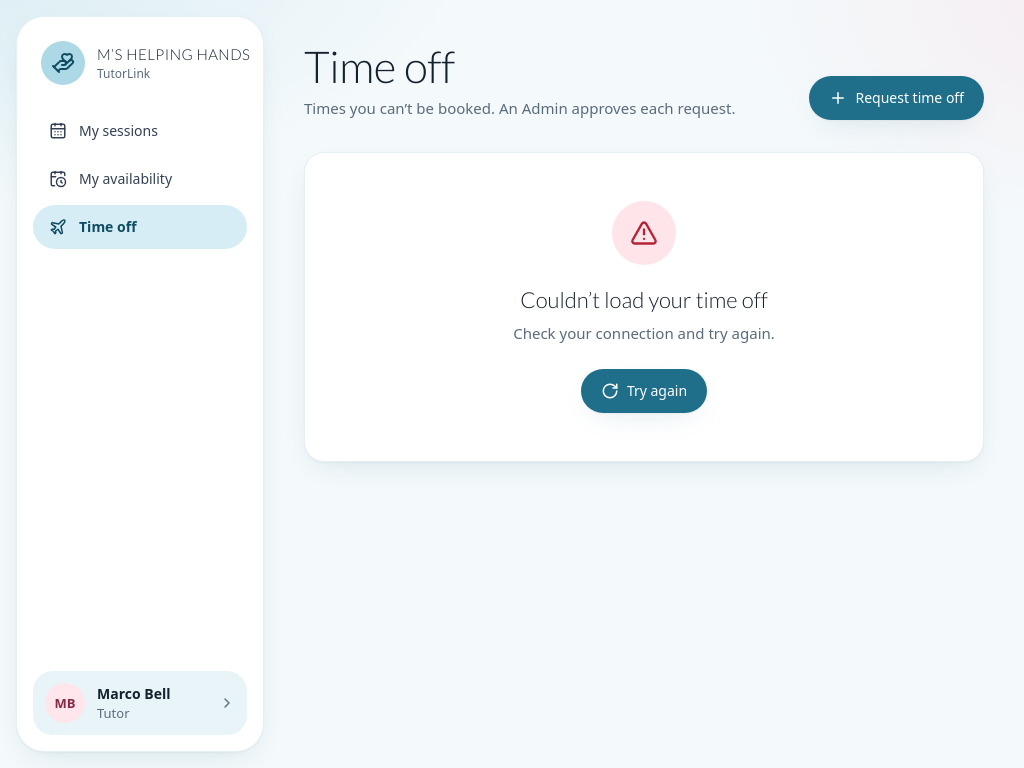
Scenario: Own time off for a Tutor › offers Try again when the list fails
The width and height of the screenshot is (1024, 768).
Expected: the heading "Couldn’t load your time off" is shown, top-left (520, 285), bottom-right (768, 315)
Click the button "Try again": (644, 391) top-left (581, 369), bottom-right (707, 413)
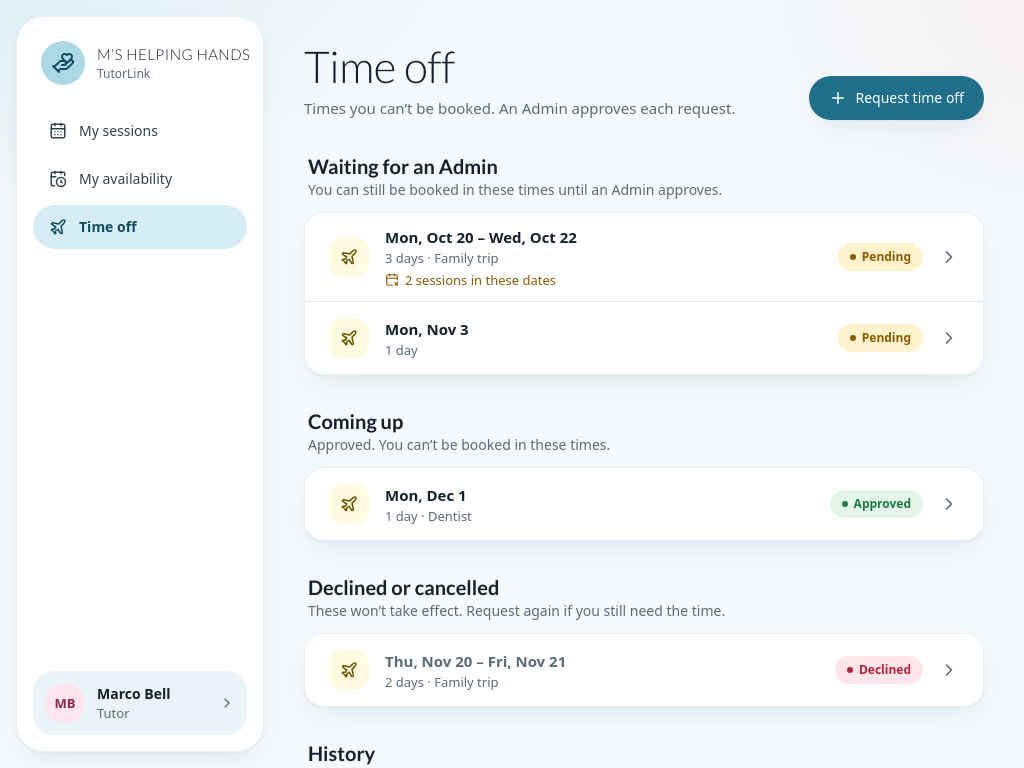
Expected: the element "Waiting for an Admin" is shown, top-left (304, 152), bottom-right (984, 375)
